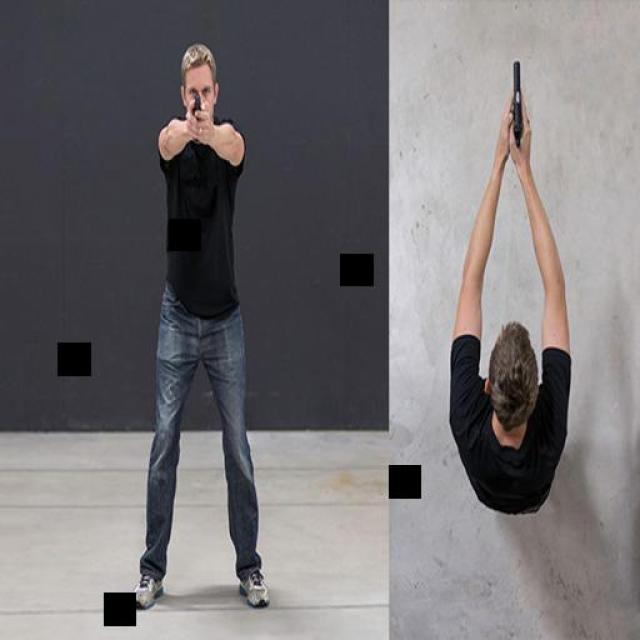gun: (499, 52, 529, 146), (182, 86, 198, 142)
